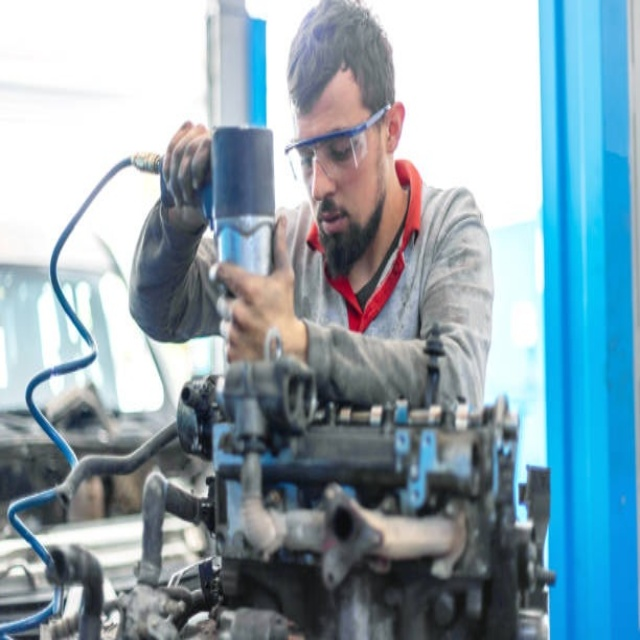Gafas: (284, 104, 390, 190)
Sin_guantes: (212, 222, 303, 366), (158, 121, 215, 231)
Sin_mascara: (313, 198, 361, 254)
